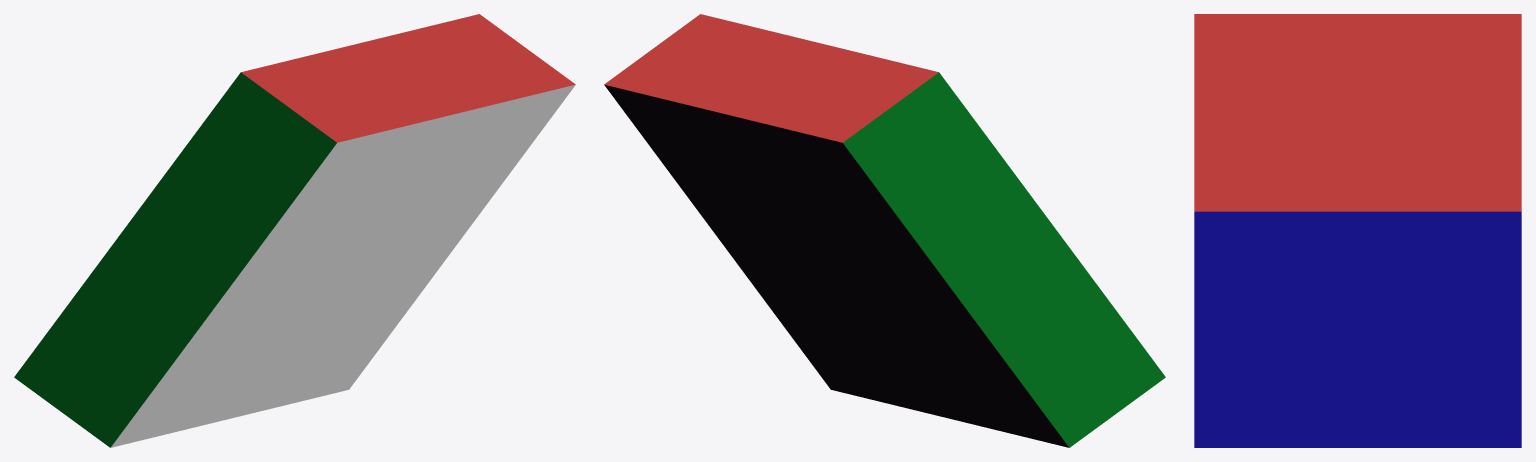
The picture shows the model from 3 angles, left to right: view 1: azimuth 30°, elevation 25°; view 2: azimuth 150°, elevation 25°; view 3: azimuth 270°, elevation 25°; orthographic projection. The views are drawn at different scales.
Parts seen in each view (by area): view 1: Cube; view 2: Cube; view 3: Cube.
Part boxes in pixels (box(x1,y1,x2,y2)): Cube: box(14, 14, 575, 447); Cube: box(604, 14, 1165, 447); Cube: box(1194, 14, 1521, 447).
Size of the model in its own units: 557 by 286 by 200.
